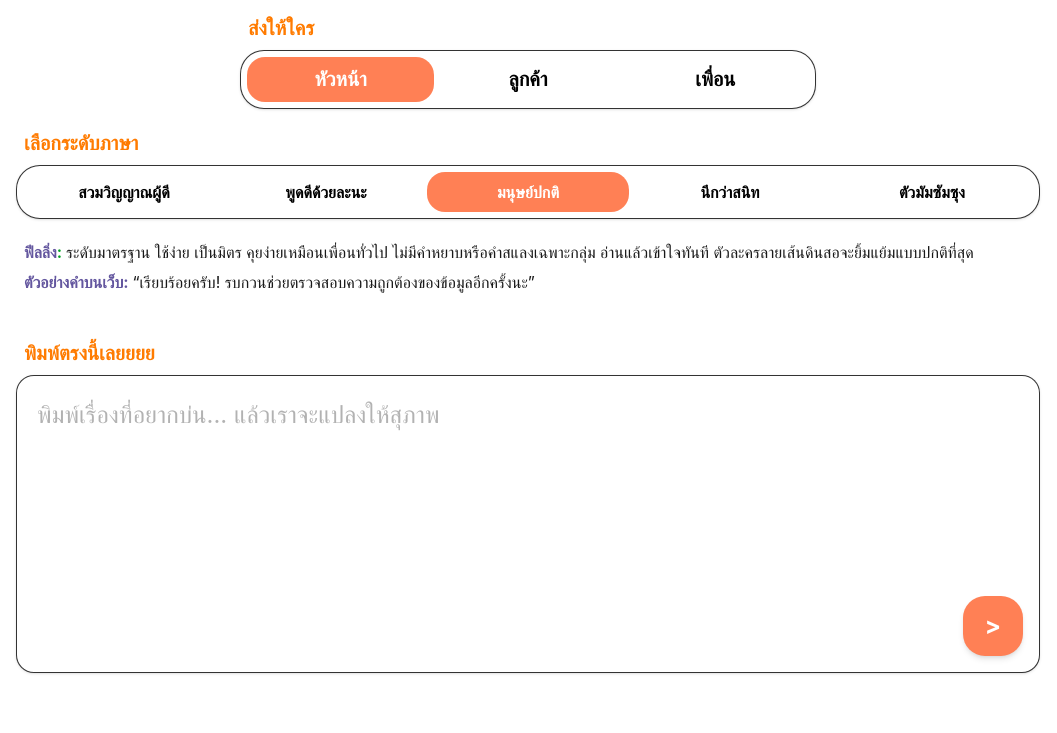
Test: Home page › shows a generic error on a 500
Type "hi" into the text box with placeholder "พิมพ์เรื่องที่อยากบ่น... แล้วเราจะแปลงให้สุภาพ".
click(528, 491); type("hi")  # box x1=37 y1=396 x2=1019 y2=586
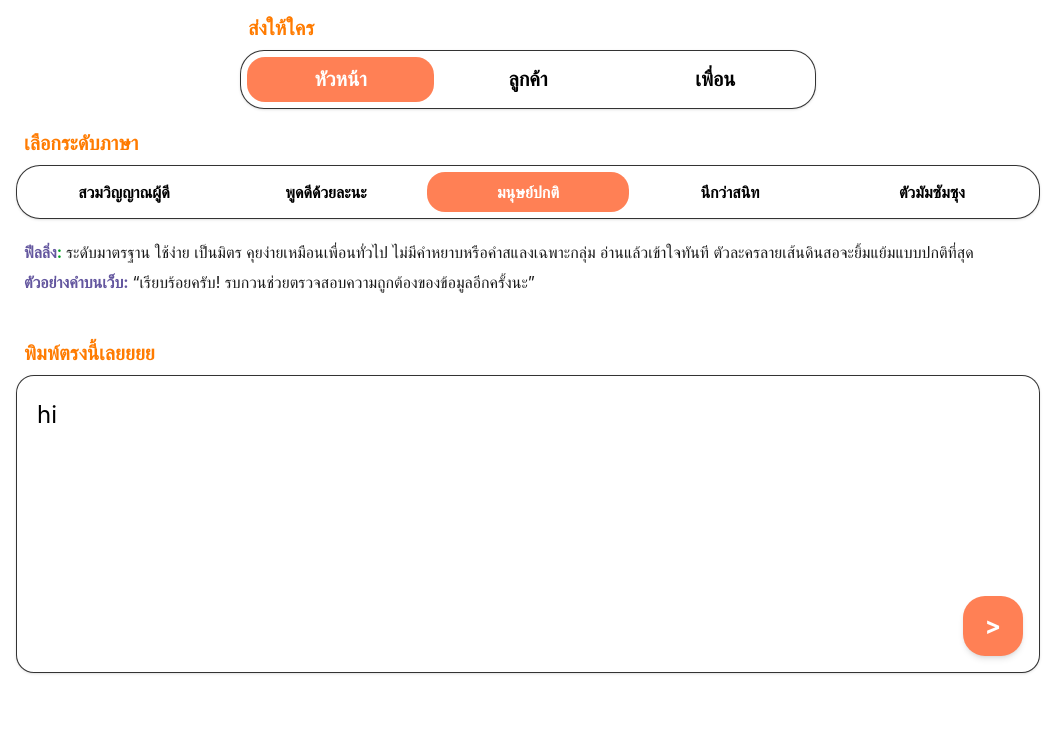
Click the button named "แปลงข้อความ".
click(993, 626)  # box x1=963 y1=596 x2=1023 y2=656
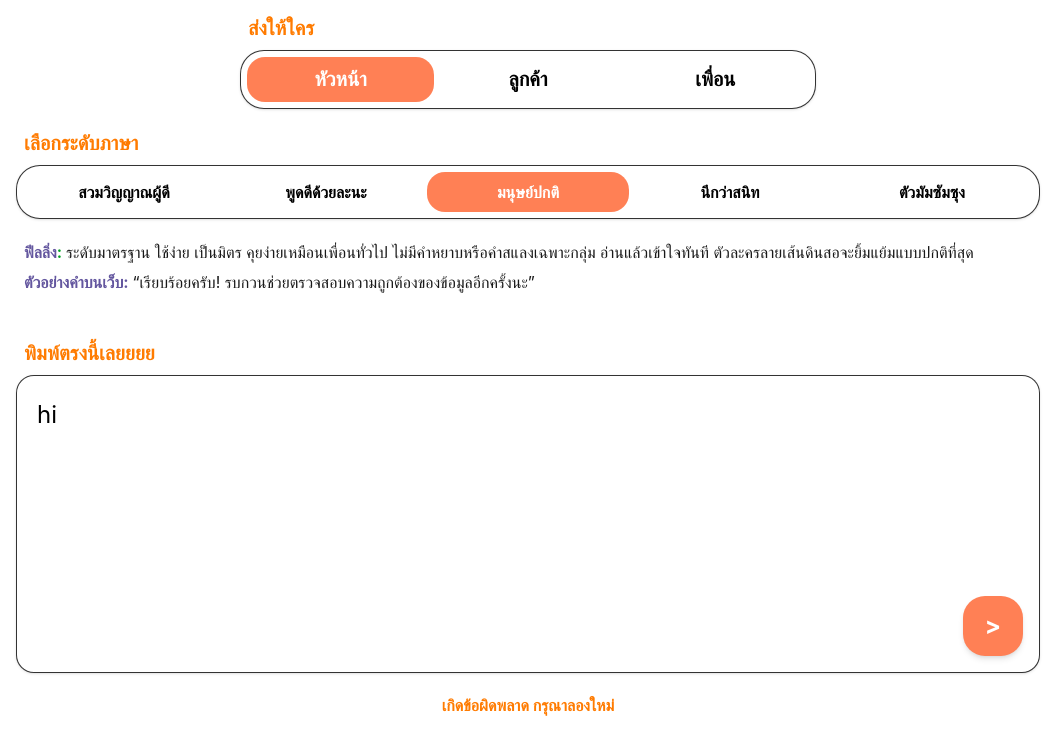
Result: the text "เกิดข้อผิดพลาด กรุณาลองใหม่" is shown at x1=442 y1=695 x2=614 y2=715
